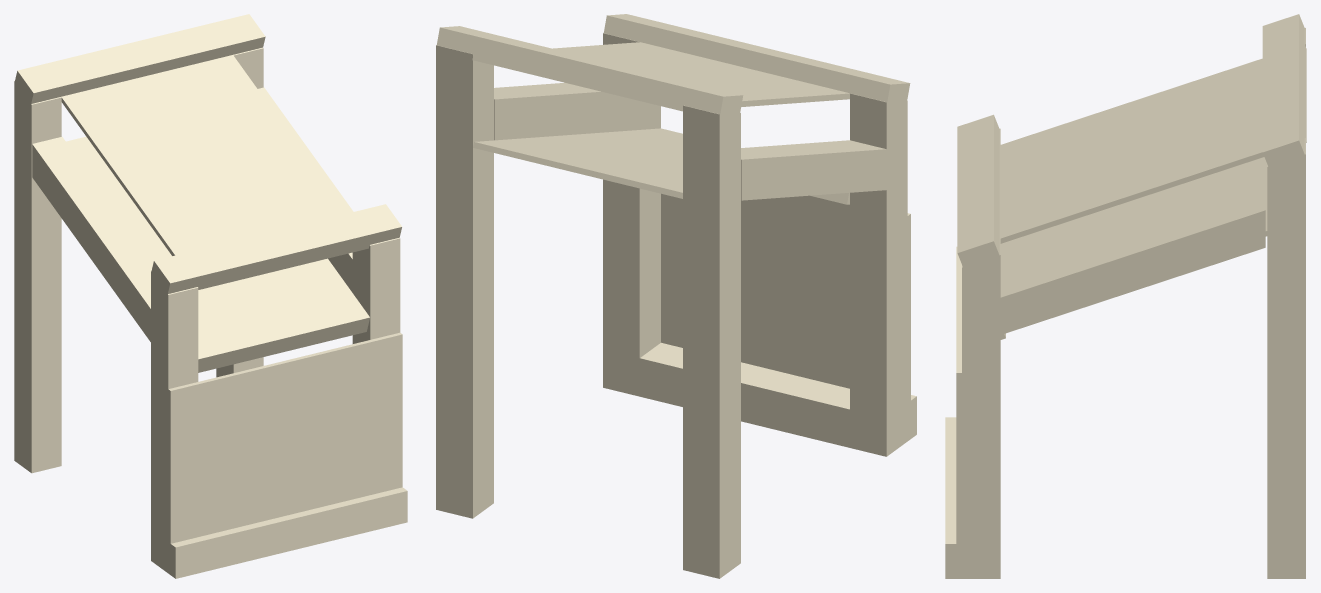
File: Depot.fbx
The picture shows the model from 3 angles, left to right: view 1: azimuth 30°, elevation 25°; view 2: azimuth 150°, elevation 25°; view 3: azimuth 270°, elevation 25°; orthographic projection. The views are drawn at different scales.
Parts seen in each view (by area): view 1: Part 13, Part 7, Part 4, Part 6, Part 10.001, Part 8, Part 9, Part 12, Part 2, Part 3, Part 11, Part 10 (+1 smaller); view 2: Part 4, Part 5, Part 13, Part 2, Part 3, Part 1, Part 6, Part 7, Part 8, Part 9, Part 10.001, Part 10; view 3: Part 7, Part 5, Part 10, Part 3, Part 6, Part 9, Part 8, Part 12, Part 13.
Boxes of the visible parts, x1,y1,x2,y2 form: Part 13: (168,332,402,543); Part 7: (61,55,369,289); Part 4: (14,80,61,473); Part 6: (66,136,369,362); Part 10.001: (32,137,153,342); Part 8: (15,14,265,103); Part 9: (151,204,401,293); Part 12: (168,487,407,578); Part 2: (151,270,198,572); Part 3: (352,237,400,343); Part 11: (198,321,369,372); Part 10: (258,87,353,292); Part 4: (683,105,740,578); Part 5: (436,45,493,518); Part 13: (661,193,910,402); Part 2: (850,93,907,456); Part 3: (603,33,660,396); Part 1: (639,342,849,447); Part 6: (473,128,682,198); Part 7: (472,42,849,111); Part 8: (437,26,743,114); Part 9: (603,14,910,102); Part 10.001: (741,140,886,200); Part 10: (494,82,639,140); Part 7: (999,45,1306,243); Part 5: (1267,138,1305,578); Part 10: (999,194,1265,334); Part 3: (962,238,1000,578); Part 6: (1000,157,1267,280); Part 9: (957,114,999,267); Part 8: (1262,14,1304,166); Part 12: (945,417,961,578); Part 13: (956,246,961,543).
Bounding box in the file's own units: 68.58 × 111 × 82.82.
